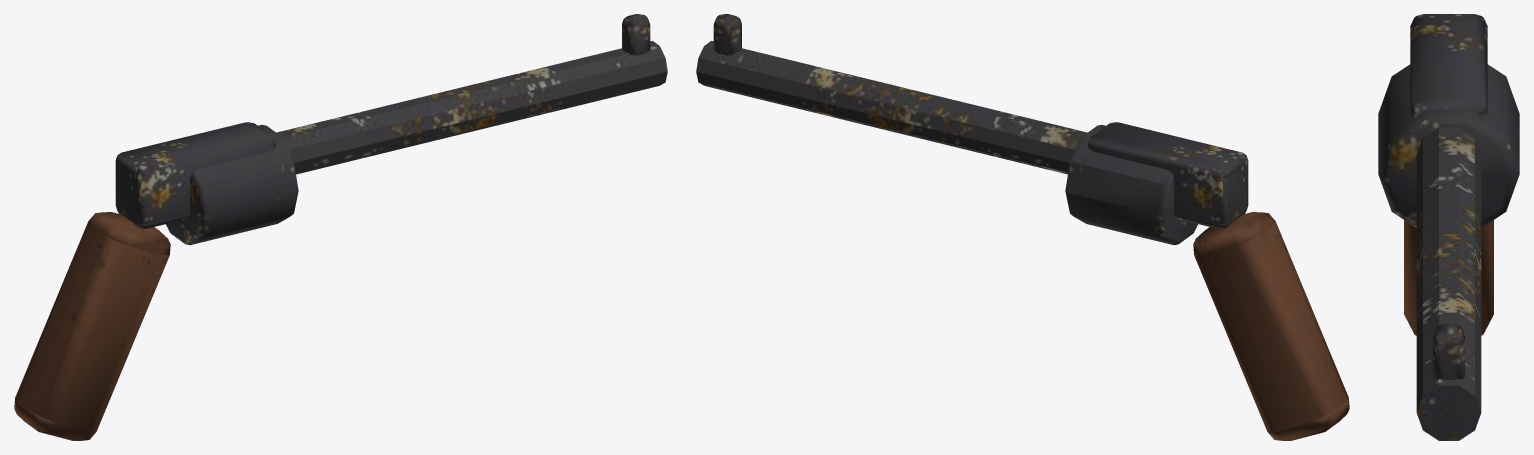
Rendered from held_weapon_revolver.gltf.
3 renders of one model, left to right at view 1: azimuth 30°, elevation 25°; view 2: azimuth 150°, elevation 25°; view 3: azimuth 270°, elevation 25°, orthographic. The views are drawn at different scales.
Parts seen in each view (by area): view 1: box.001, cyl, box, cyl.001, box.002; view 2: box.001, cyl, box, cyl.001, box.002; view 3: cyl, cyl.001, box, box.001, box.002.
Part boxes in pixels (x1=…): box.001: x1=14, y1=212, x2=170, y2=440; cyl: x1=276, y1=41, x2=667, y2=174; box: x1=115, y1=122, x2=276, y2=228; cyl.001: x1=166, y1=124, x2=298, y2=245; box.002: x1=622, y1=14, x2=650, y2=55; box.001: x1=1193, y1=212, x2=1349, y2=440; cyl: x1=696, y1=41, x2=1087, y2=174; box: x1=1087, y1=122, x2=1248, y2=228; cyl.001: x1=1065, y1=124, x2=1197, y2=245; box.002: x1=713, y1=14, x2=741, y2=55; cyl: x1=1416, y1=127, x2=1481, y2=440; cyl.001: x1=1378, y1=64, x2=1519, y2=227; box: x1=1410, y1=14, x2=1487, y2=116; box.001: x1=1404, y1=220, x2=1493, y2=335; box.002: x1=1433, y1=323, x2=1464, y2=379.
Bounding box in the file's own units: 0.3161 × 0.1345 × 0.044.
Materials: 2 (2 with a texture image).
